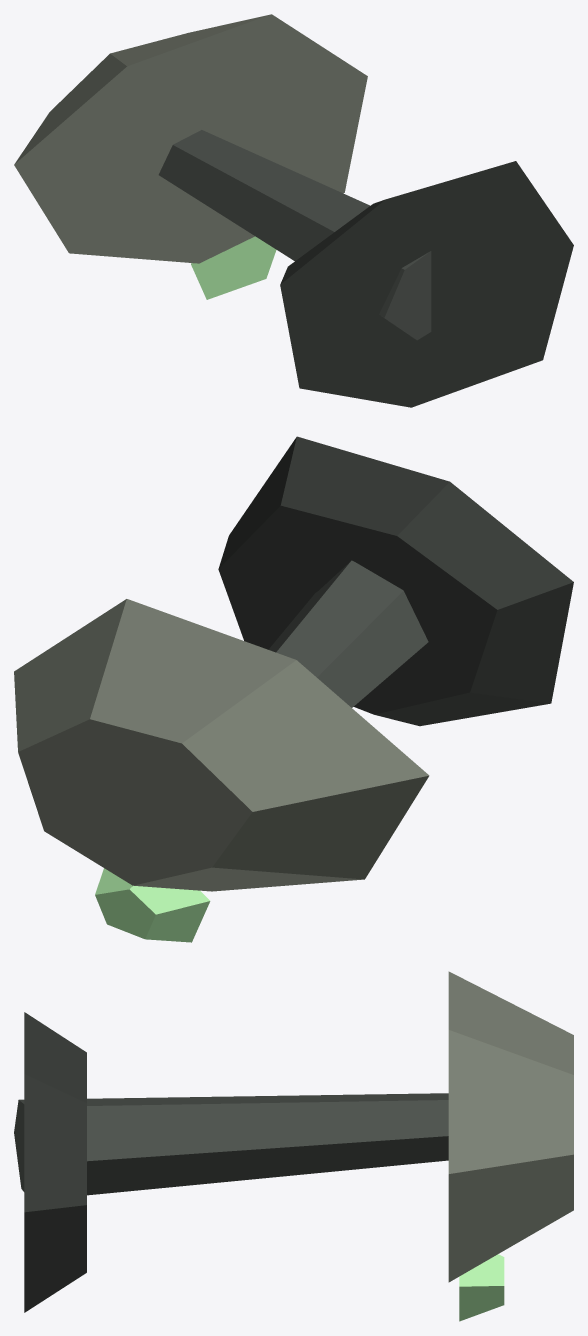
Rendered from CrashBasinFloraB.fbx.
3 renders of one model, top to bottom at view 1: azimuth 30°, elevation 25°; view 2: azimuth 150°, elevation 25°; view 3: azimuth 270°, elevation 25°, orthographic. The views are drawn at different scales.
Visible parts, largest first — view 1: FloraCrown, FloraBase, FloraStem, FloraAccent; view 2: FloraCrown, FloraBase, FloraStem, FloraAccent; view 3: FloraCrown, FloraStem, FloraBase, FloraAccent.
Part boxes in pixels (box(x1,y1,x2,y2)): FloraCrown: box(14, 14, 367, 263); FloraBase: box(280, 161, 573, 407); FloraStem: box(158, 130, 431, 340); FloraAccent: box(191, 236, 276, 299); FloraCrown: box(14, 599, 429, 891); FloraBase: box(218, 436, 573, 726); FloraStem: box(268, 560, 428, 707); FloraAccent: box(95, 868, 210, 942); FloraCrown: box(448, 971, 573, 1282); FloraStem: box(14, 1093, 448, 1195); FloraBase: box(24, 1012, 86, 1312); FloraAccent: box(459, 1254, 504, 1321).
Bounding box in the file's own units: 132 × 95.01 × 161.
